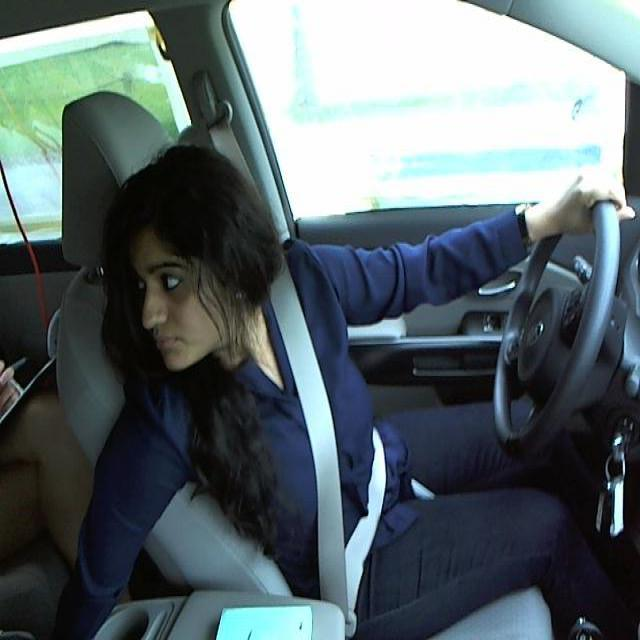seatbelt: (270, 334, 407, 594)
